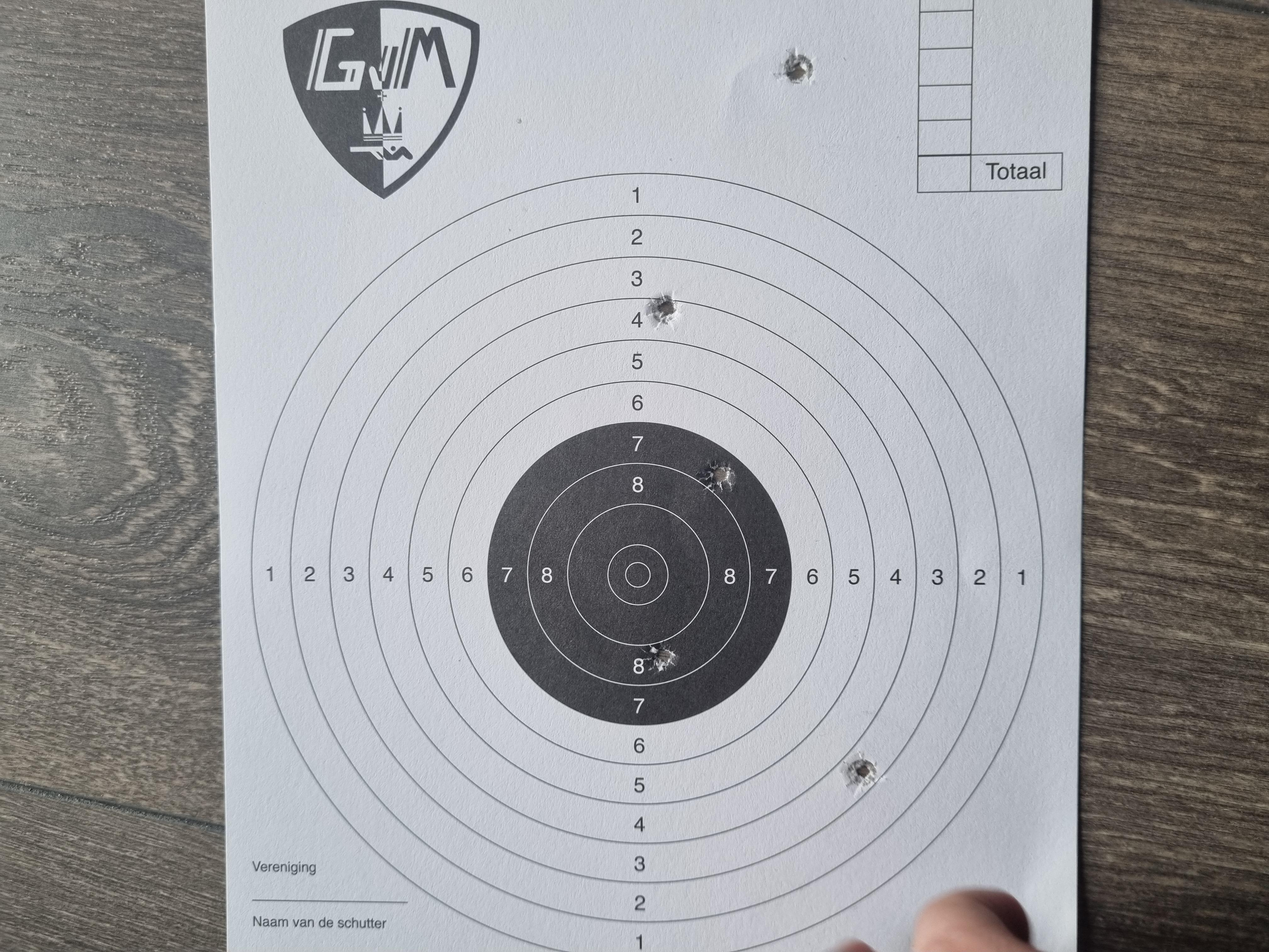hole: (612, 524, 654, 551), (1157, 588, 1206, 611), (218, 632, 257, 658), (373, 481, 412, 507), (836, 488, 876, 508)
